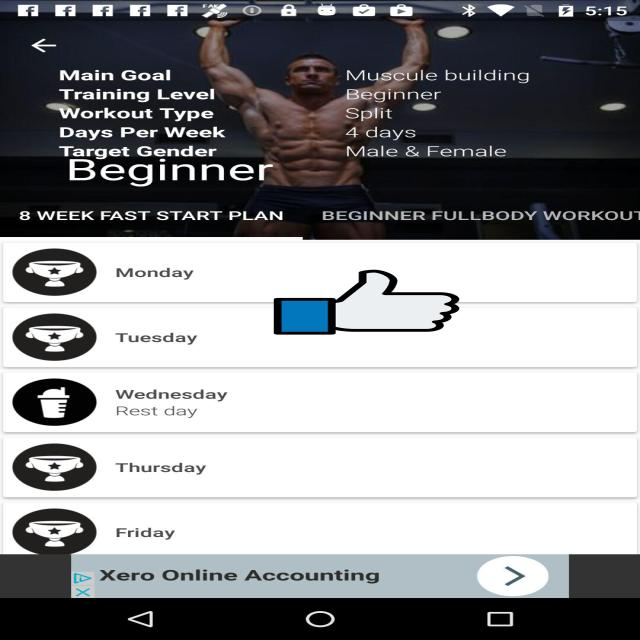privacy zuckering: (274, 268, 459, 336)
